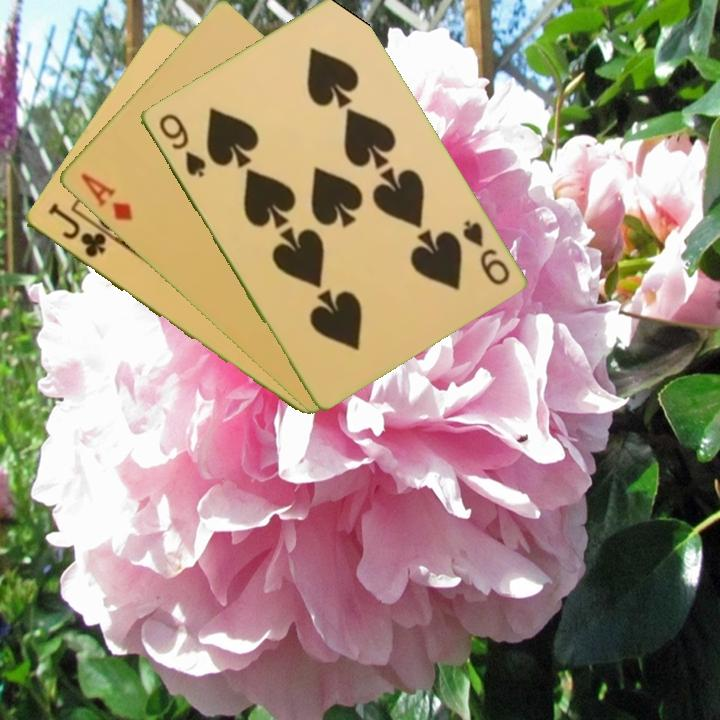9s: (154, 109, 209, 181), (458, 216, 513, 288)
Ad: (76, 169, 135, 224)
Jc: (44, 200, 109, 261)
